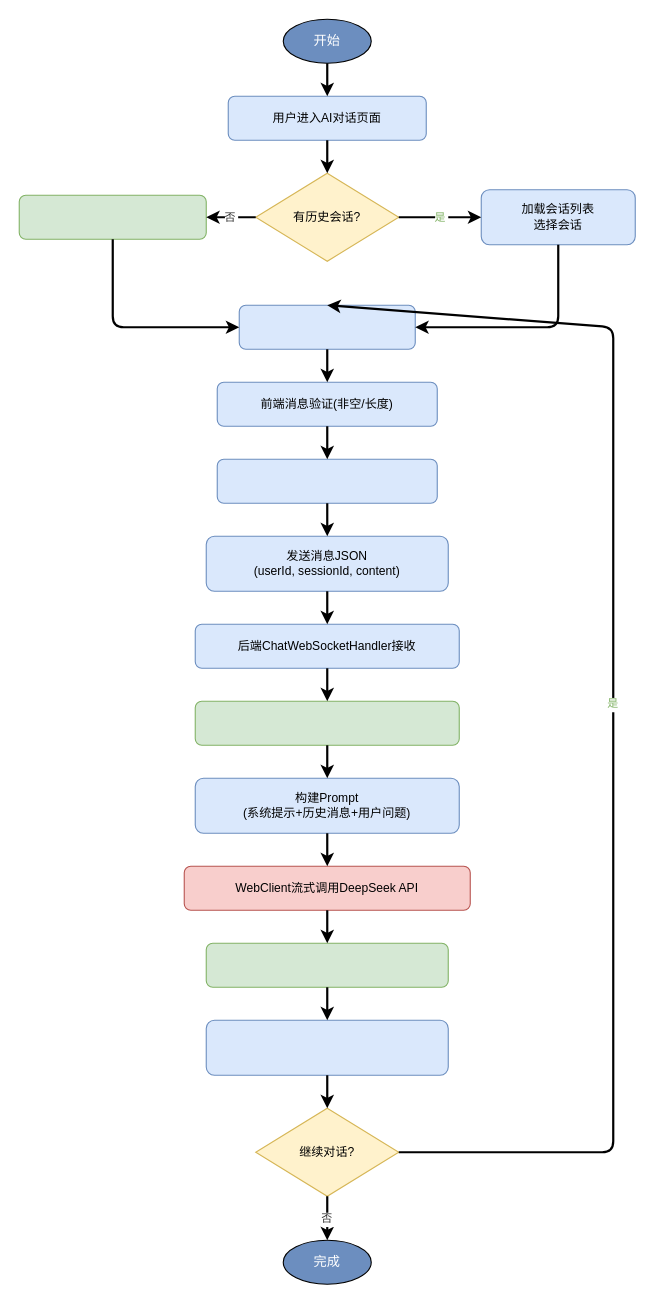
Some shapes in this 655 by 1304 pixel diagram are drawn without their labels. The centre of each missing label's shape, as x and y in pixels:
"SSE逐token推送(SendEvent)" belongs at [326,964].
"WebSocket连接 /ws/chat" belongs at [326,480].
"保存用户消息到chat_history" belongs at [326,722].
"创建新会话(生成UUID)" belongs at [112,216].
"前端实时渲染 (Marked解析Markdown)" belongs at [326,1047].
"用户输入消息" belongs at [326,326].
